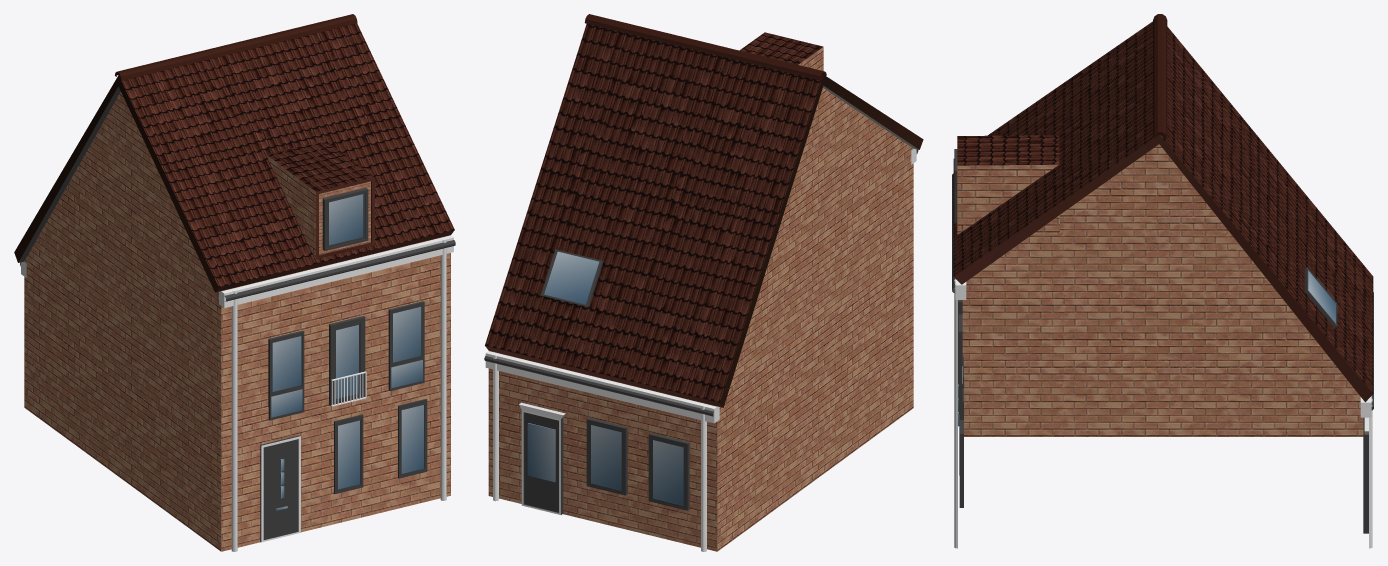
Rendered from Buorkerij_33.fbx.
3 renders of one model, left to right at view 1: azimuth 30°, elevation 25°; view 2: azimuth 150°, elevation 25°; view 3: azimuth 270°, elevation 25°, orthographic. The views are drawn at different scales.
Parts seen in each view (by area): view 1: Buorkerij_33; view 2: Buorkerij_33; view 3: Buorkerij_33.
Part boxes in pixels (x1=…): Buorkerij_33: x1=14, y1=14, x2=455, y2=551; Buorkerij_33: x1=484, y1=14, x2=923, y2=551; Buorkerij_33: x1=952, y1=14, x2=1373, y2=548.
Bounding box in the file's own units: 6.22 × 10.31 × 9.38.
